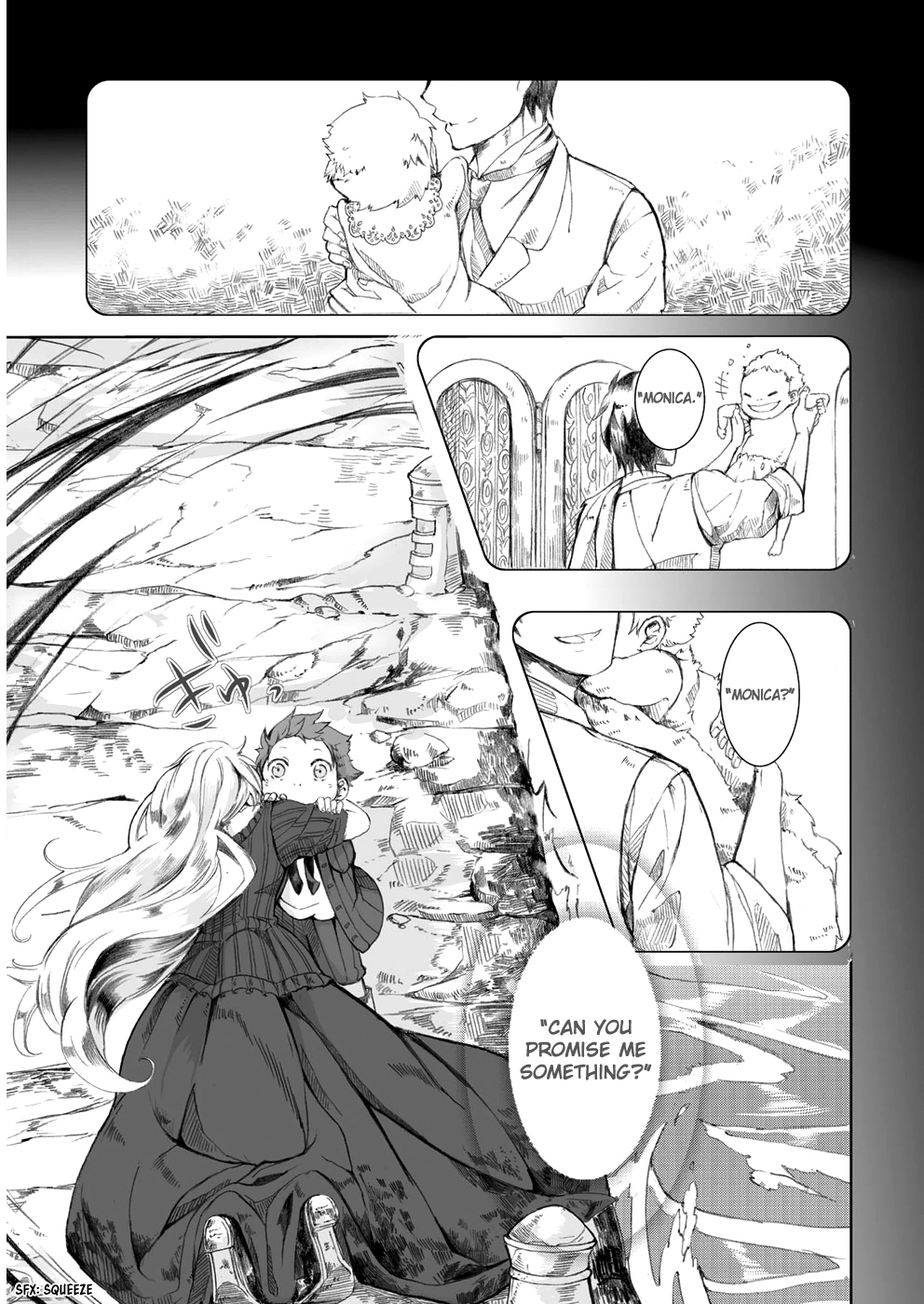bubble: (507, 913, 666, 1180), (720, 622, 800, 766), (635, 348, 704, 452)
